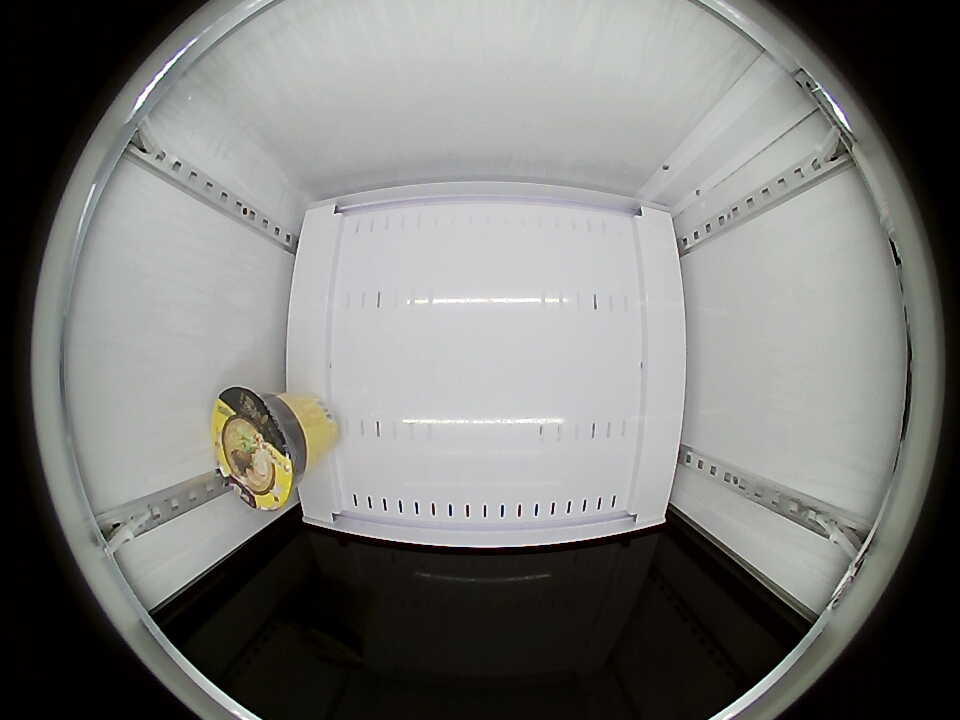tangdaren2: (211, 387, 308, 512)
